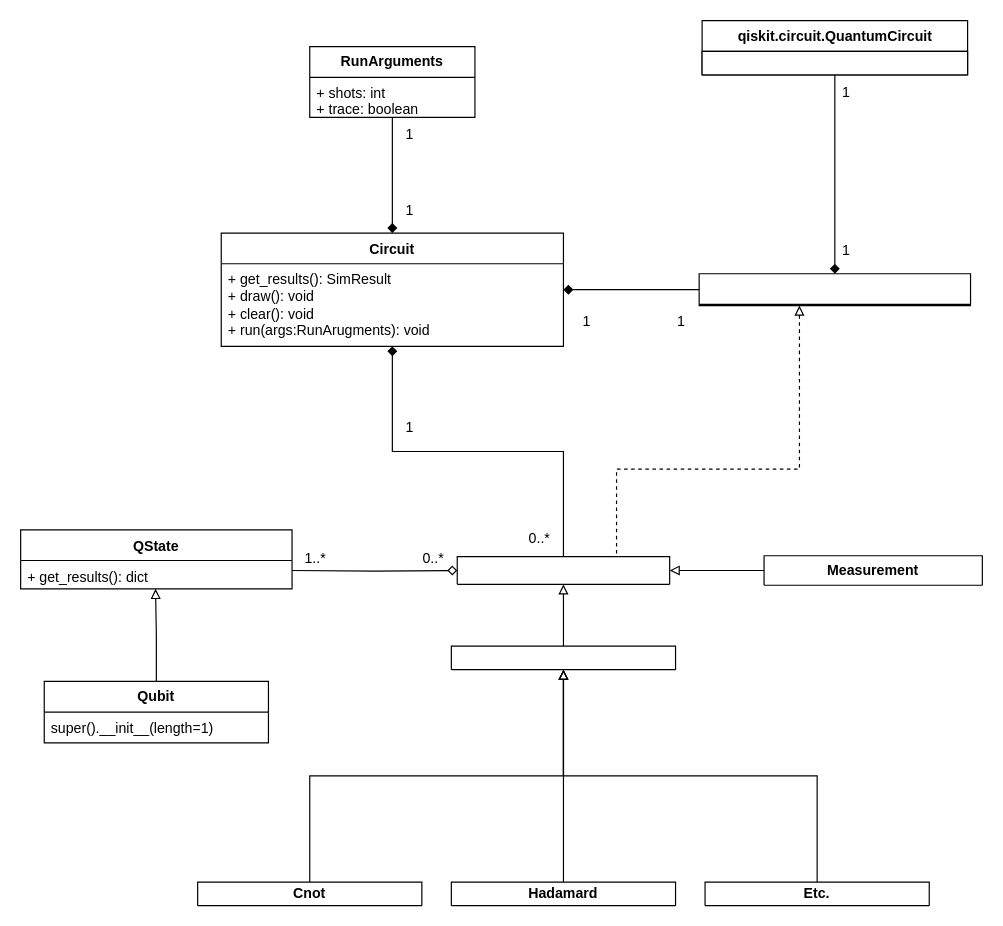
This 1003x926 diagram has some shape labels left out. The shapes that lost their labels are listed below. From the top down, each one's centre as x and y in pixels, then its label:
point 834,62: qiskit_aer.AerSimulator
point 834,289: QuantumInterface
point 563,569: Operation
point 563,657: Gate
